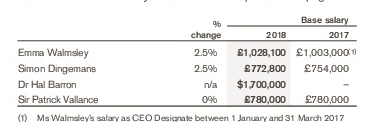table: (0, 0, 372, 122)
